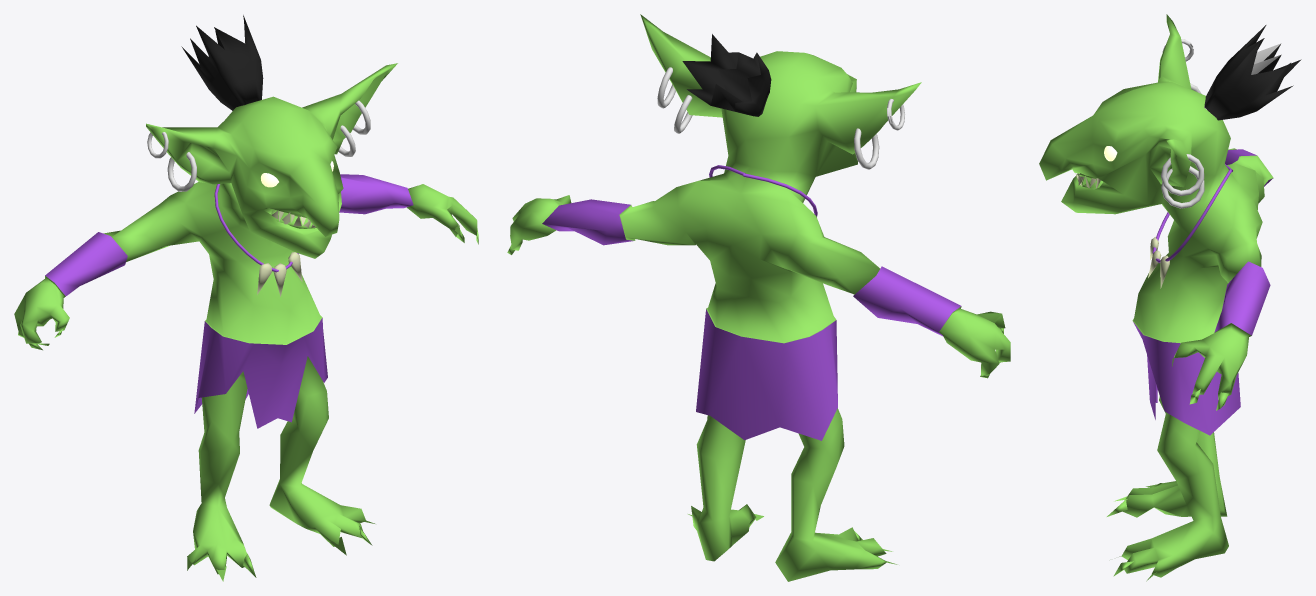
Rendered from goblin.fbx.
3 views of the same model, side by side, from view 1: azimuth 30°, elevation 25°; view 2: azimuth 150°, elevation 25°; view 3: azimuth 270°, elevation 25° (orthographic). The views are drawn at different scales.
Visible parts, largest first — view 1: goblin; view 2: goblin; view 3: goblin.
Boxes of the visible parts, box(x1,y1,x2,y2) form: goblin: box(14, 15, 478, 581); goblin: box(507, 14, 1010, 581); goblin: box(1039, 14, 1301, 581).
Bounding box in the file's own units: 132 × 139 × 65.45.
